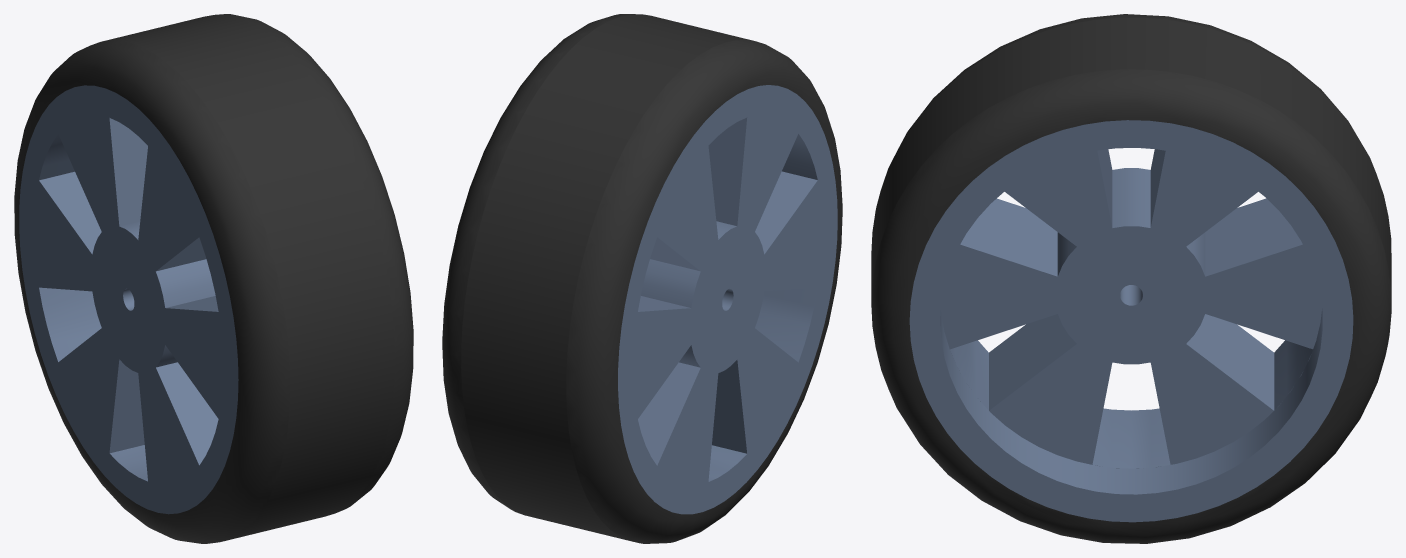
The model's file is wheel.dae.
3 views of the same model, side by side, from view 1: azimuth 30°, elevation 25°; view 2: azimuth 150°, elevation 25°; view 3: azimuth 270°, elevation 25° (orthographic).
Parts seen in each view (by area): view 1: l_wheel; view 2: l_wheel; view 3: l_wheel.
Part boxes in pixels (x1,y1,x2,y2): l_wheel: (14, 14, 413, 543); l_wheel: (442, 14, 842, 543); l_wheel: (871, 14, 1391, 543).
Bounding box in the file's own units: 0.026 × 0.068 × 0.068.
1 material, 1 textured.
